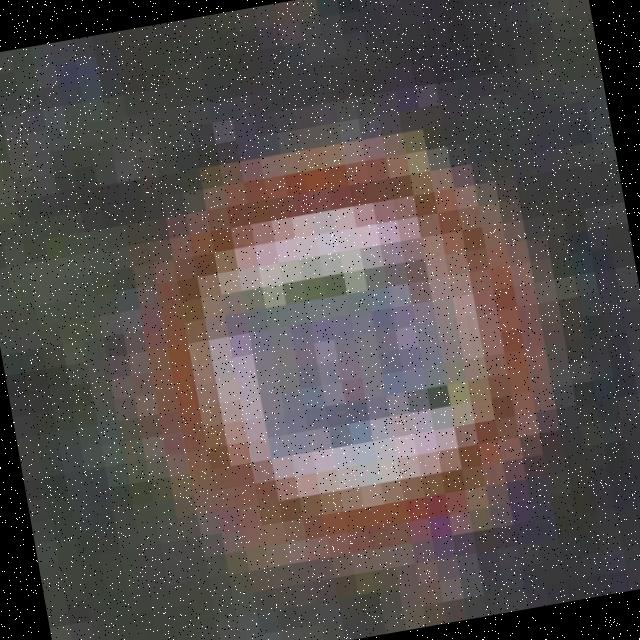Ograniczenie predkosci do 100: (132, 122, 564, 570)
